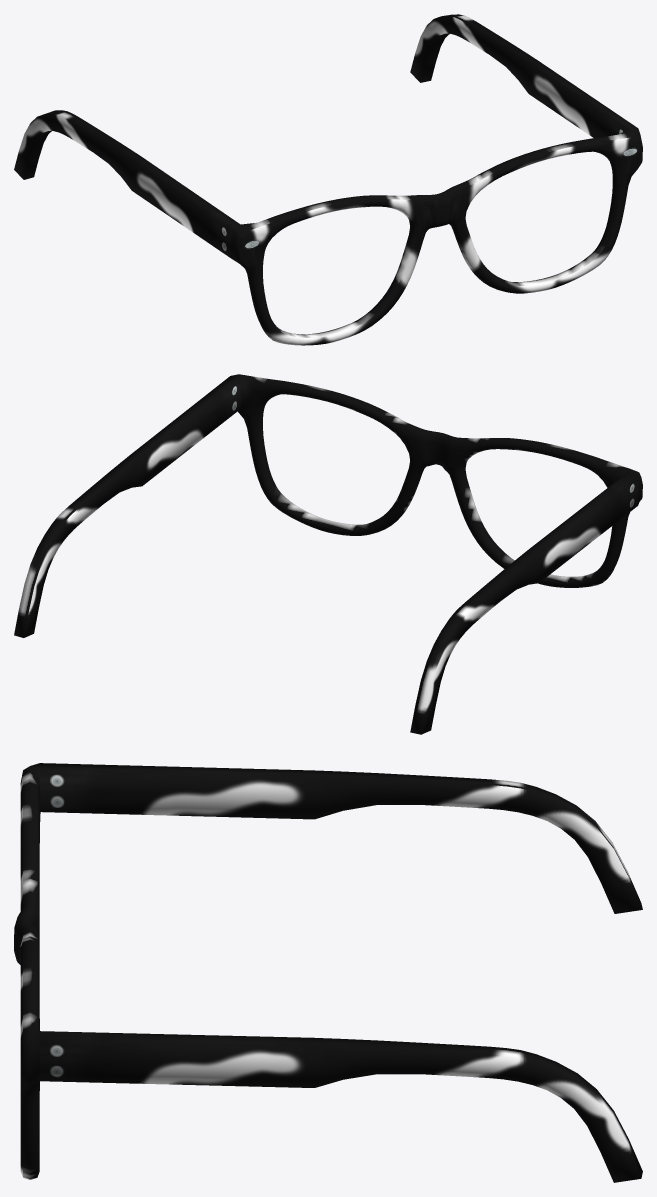
The model's file is glasses_3.glb.
The picture shows the model from 3 angles, top to bottom: view 1: azimuth 30°, elevation 25°; view 2: azimuth 150°, elevation 25°; view 3: azimuth 270°, elevation 25°; orthographic projection. The views are drawn at different scales.
Parts seen in each view (by area): view 1: Glasses.002; view 2: Glasses.002; view 3: Glasses.002.
Part boxes in pixels (x1=…): Glasses.002: x1=14, y1=14, x2=642, y2=345; Glasses.002: x1=14, y1=374, x2=642, y2=734; Glasses.002: x1=14, y1=763, x2=642, y2=1182.
Size of the model in its own units: 0.147 by 0.0482 by 0.1414.
Materials: 1 (1 with a texture image).
